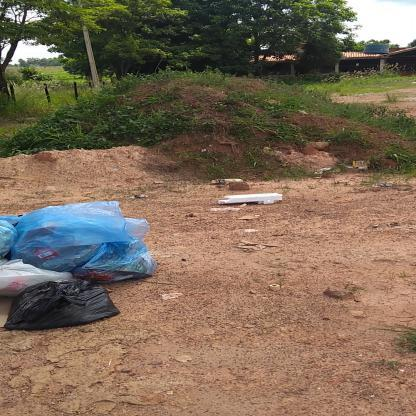lixo: (2, 200, 147, 343)
